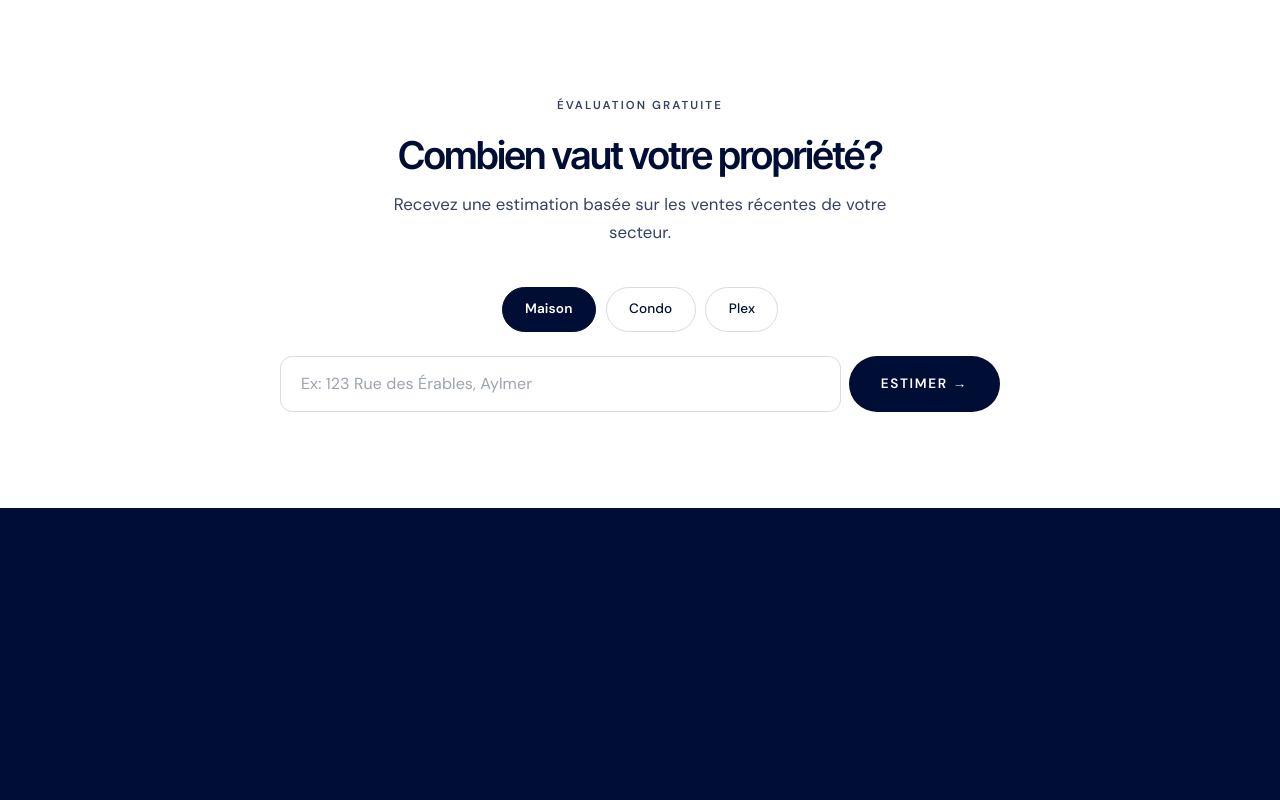
Test: ValuationWidget submission outcomes (simulated responses only) › save failure: keeps the entered values, shows an error and allows a retry
In the field with placeholder "Ex: 123 Rue des Érables, Aylmer": {"x": 560, "y": 384} top-left (280, 356), bottom-right (841, 412), type "100 Rue Principale, Aylmer"
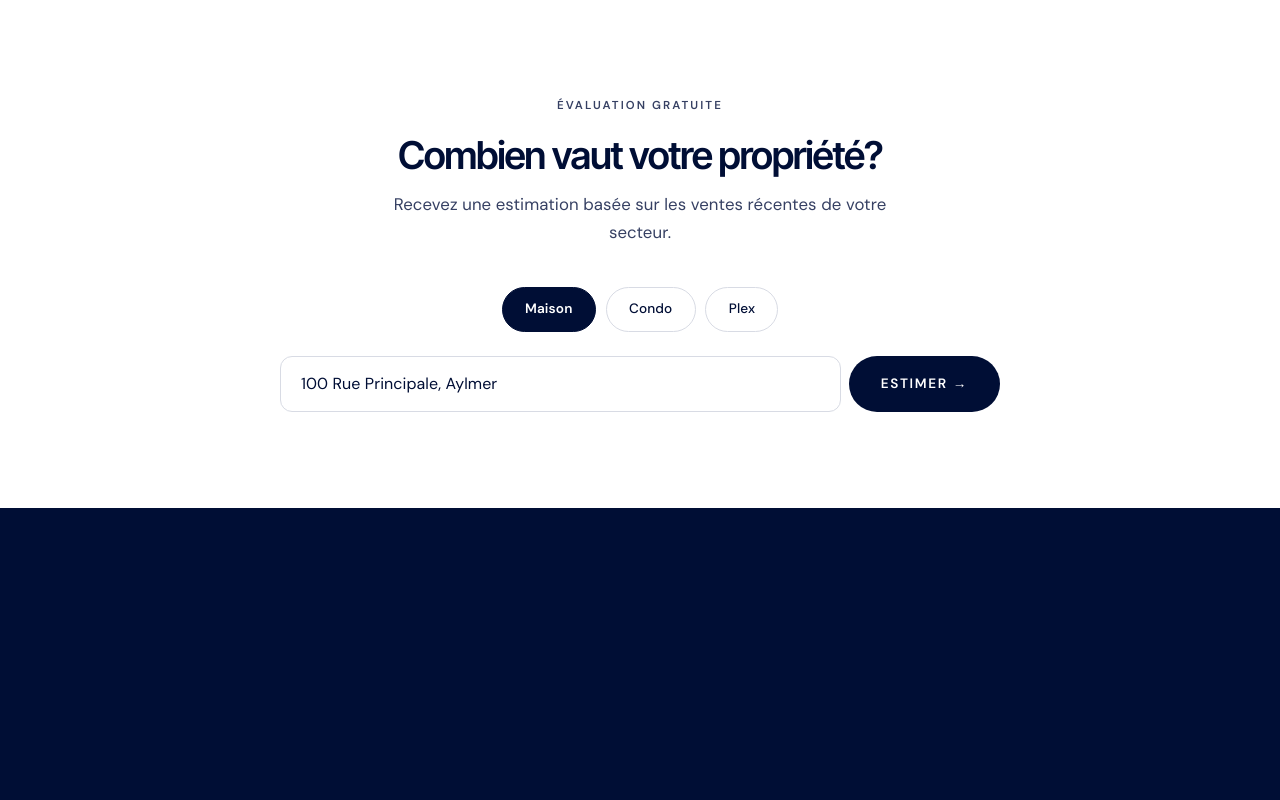
Click the button "ESTIMER →": {"x": 924, "y": 384} top-left (849, 356), bottom-right (1000, 412)
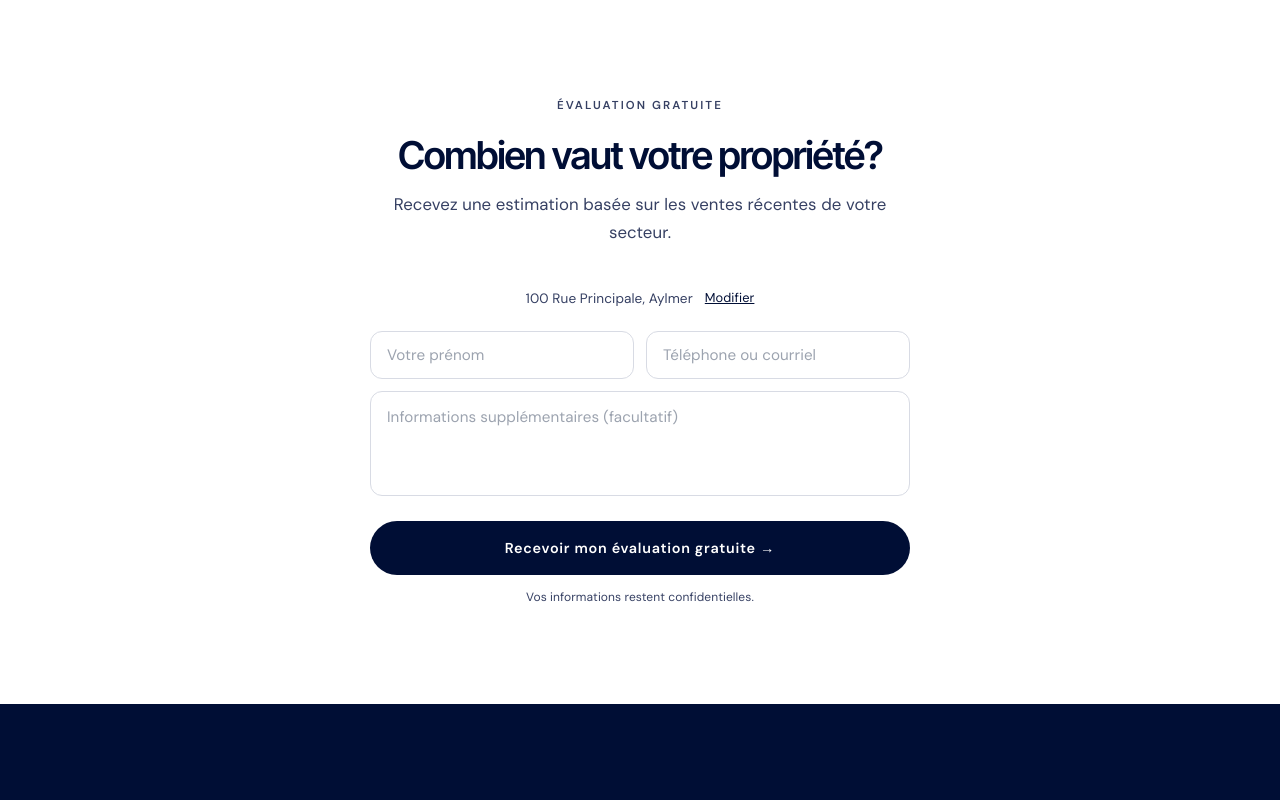
Check: the field with placeholder "Votre prénom" is shown
In the field with placeholder "Votre prénom": {"x": 502, "y": 354} top-left (370, 330), bottom-right (634, 378), type "Alex"
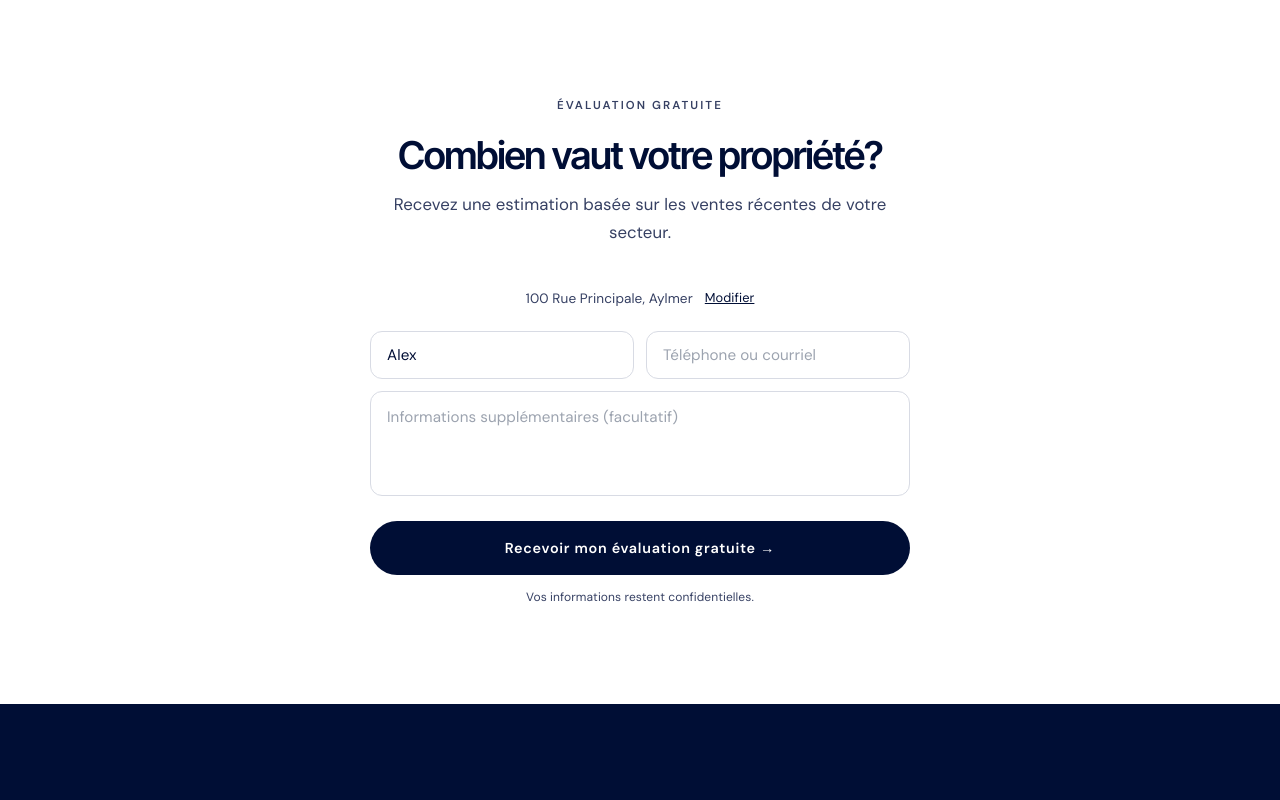
In the field with placeholder "Téléphone ou courriel": {"x": 778, "y": 354} top-left (646, 330), bottom-right (910, 378), type "alex@example.com"
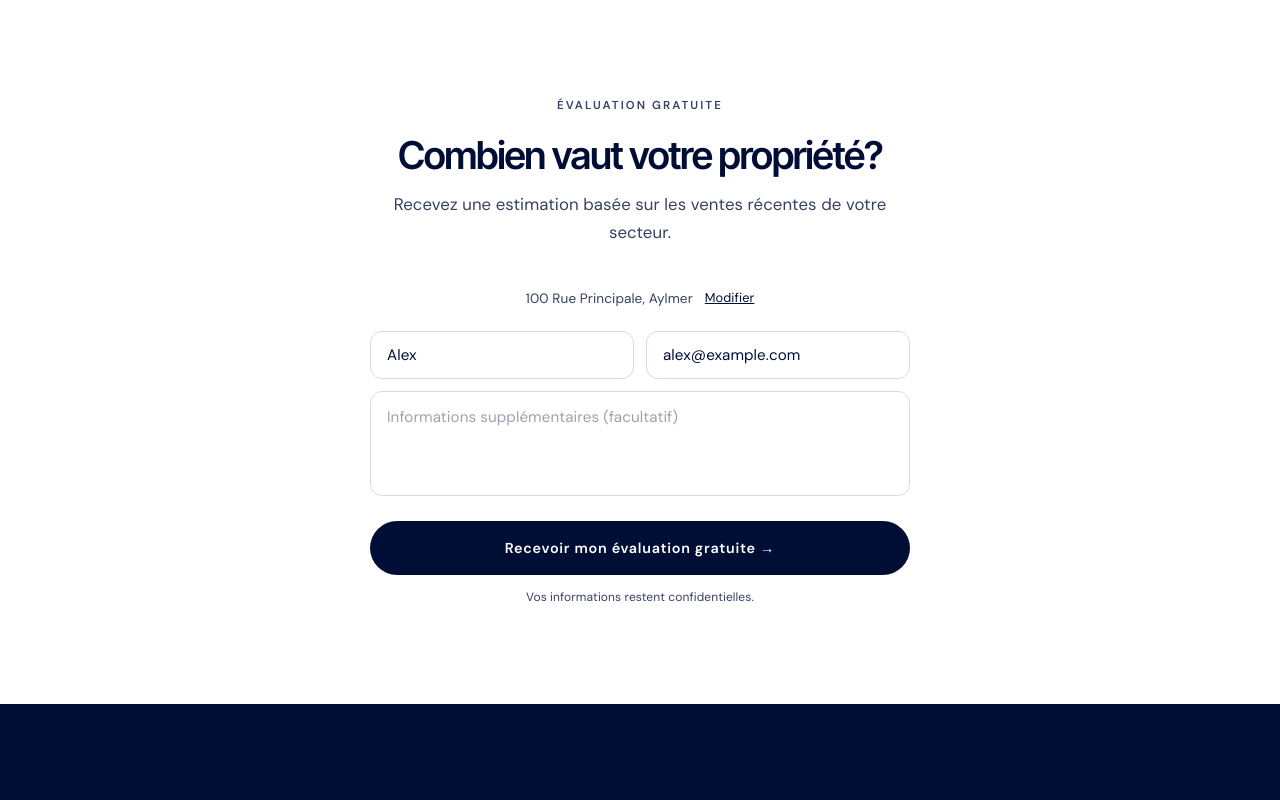
Click the button "Recevoir mon évaluation gratuite →": {"x": 640, "y": 548} top-left (370, 521), bottom-right (910, 575)
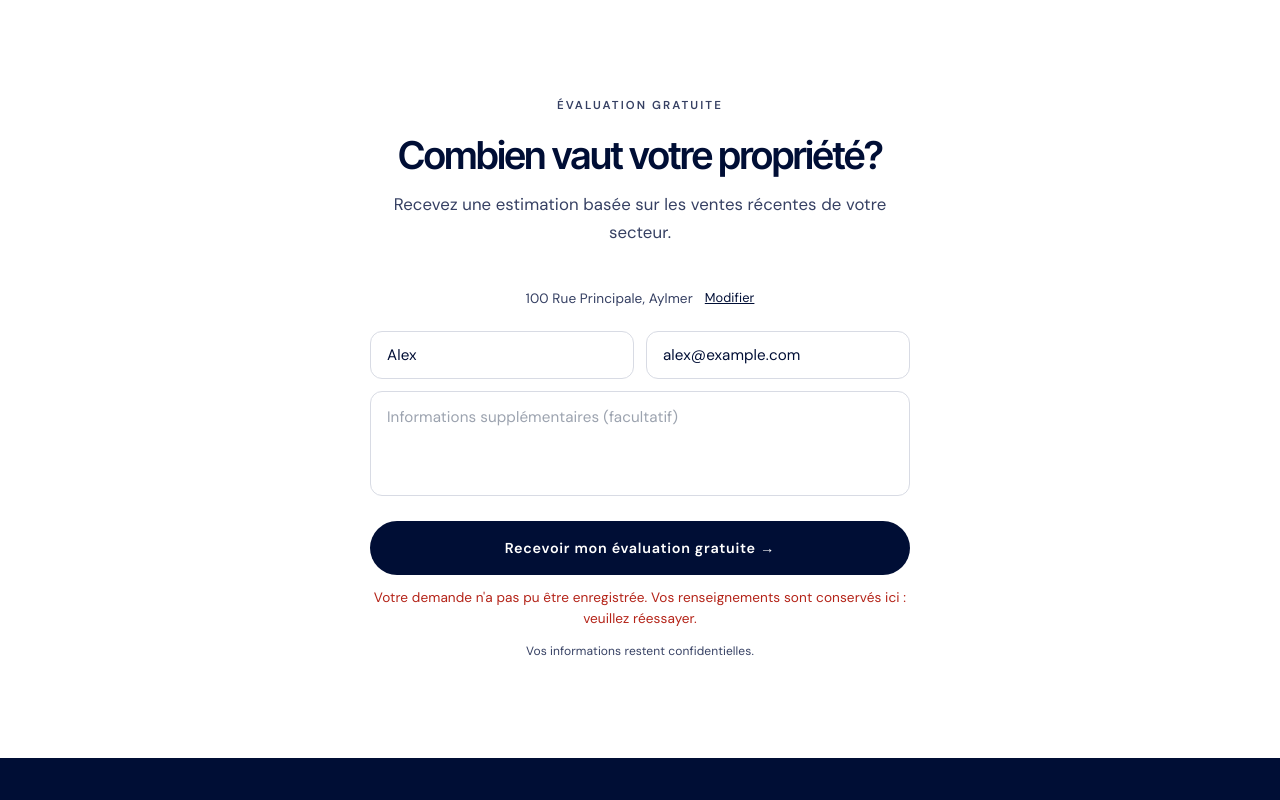
Check: the button "Recevoir mon évaluation gratuite →" is enabled, box top-left (370, 521), bottom-right (910, 575)
Check: the message is shown, box top-left (370, 587), bottom-right (910, 629)
Check: the message shows "n'a pas pu être enregistrée", box top-left (374, 589), bottom-right (906, 627)
